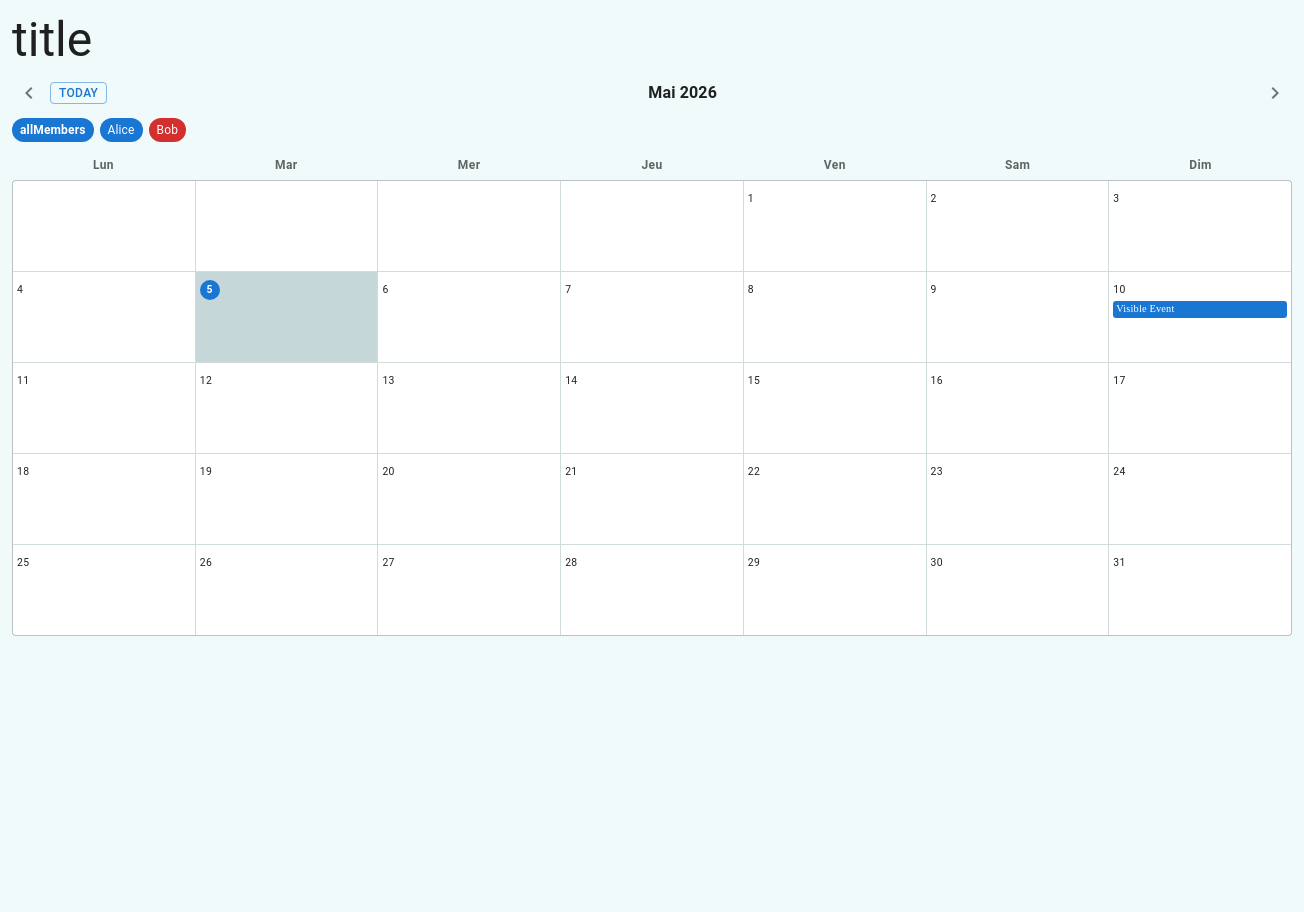
Test case: GroupCalendar › toggles all members off and on with "All" chip
# Click "All" to deselect all
Click the button "allMembers" at (53, 130), box [12,118,94,142]
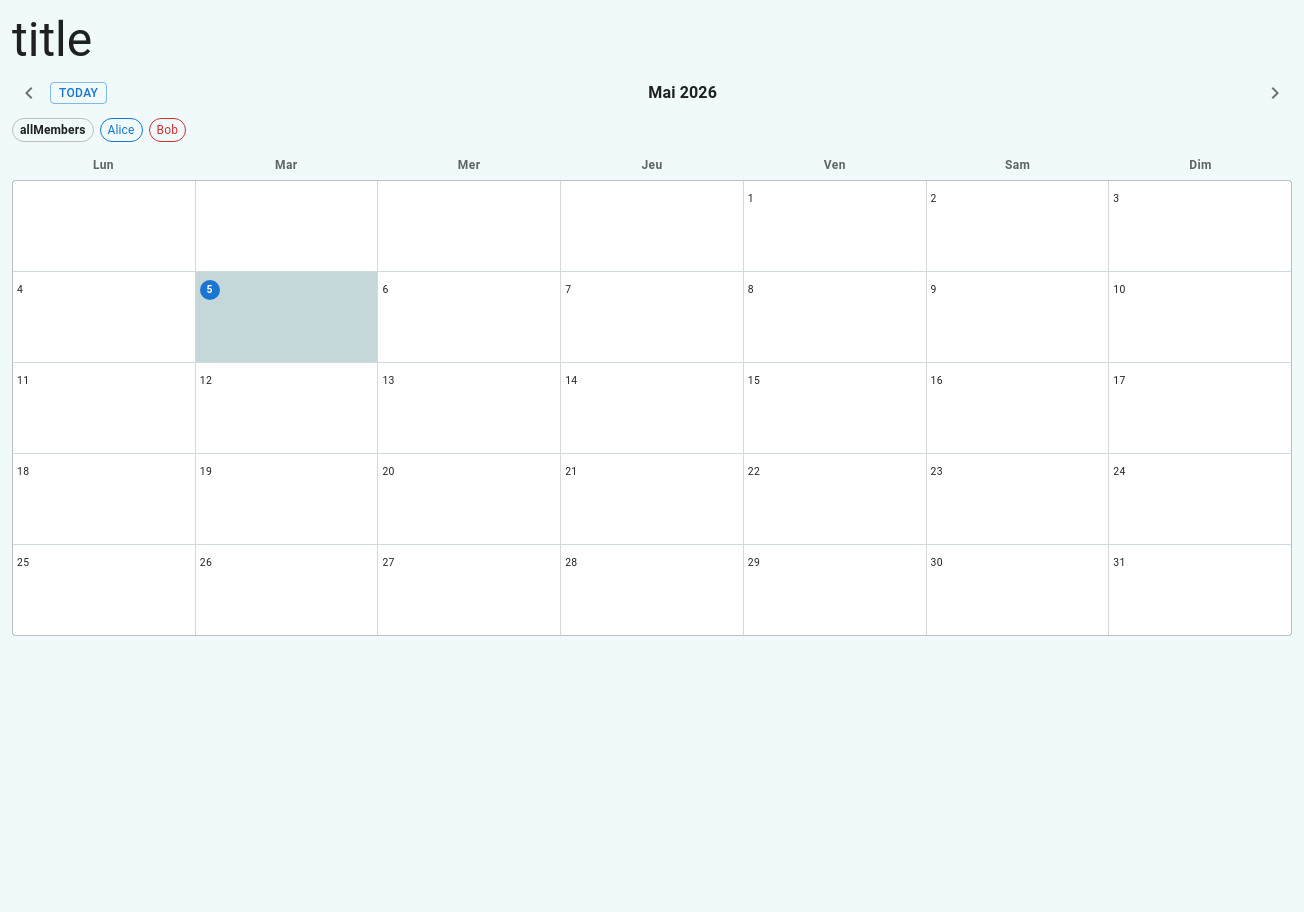
Now the button "Visible Event" is gone
# Click "All" again to select all
Click the button "allMembers" at (53, 130), box [12,118,94,142]
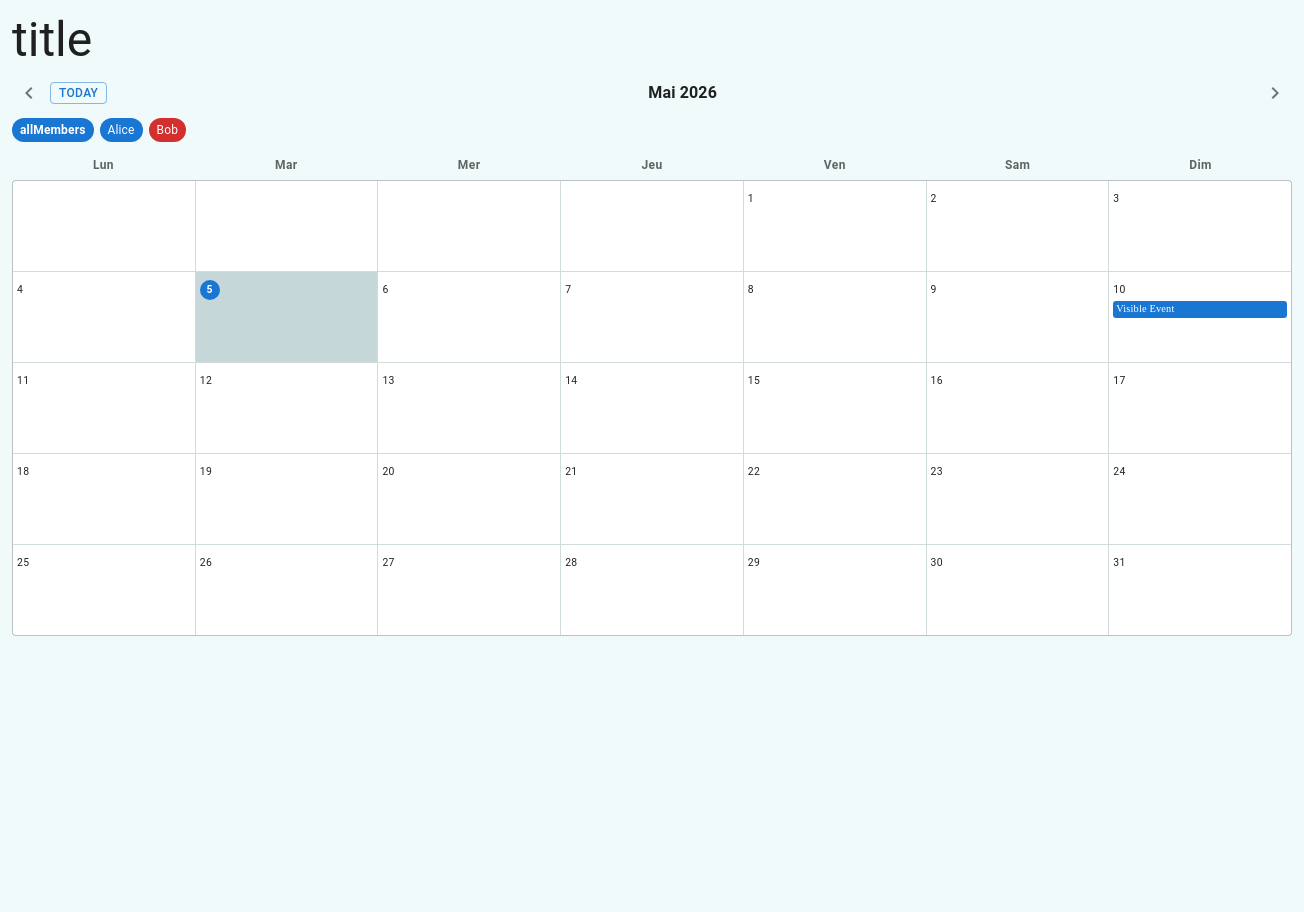
Now the button "Visible Event" is shown, box [1113,301,1287,318]
